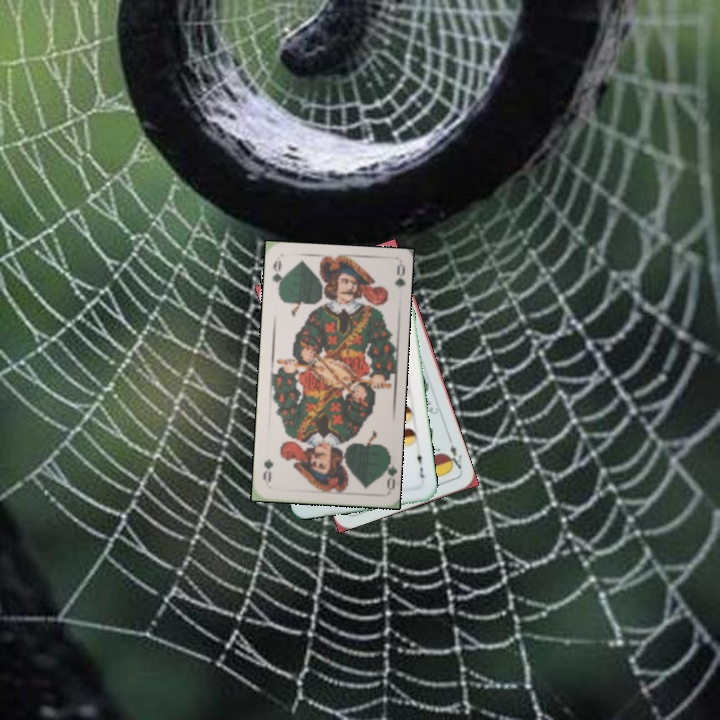E7: (413, 447, 428, 481)
EA: (443, 435, 465, 472)
GO: (377, 451, 397, 492), (268, 256, 286, 297)
